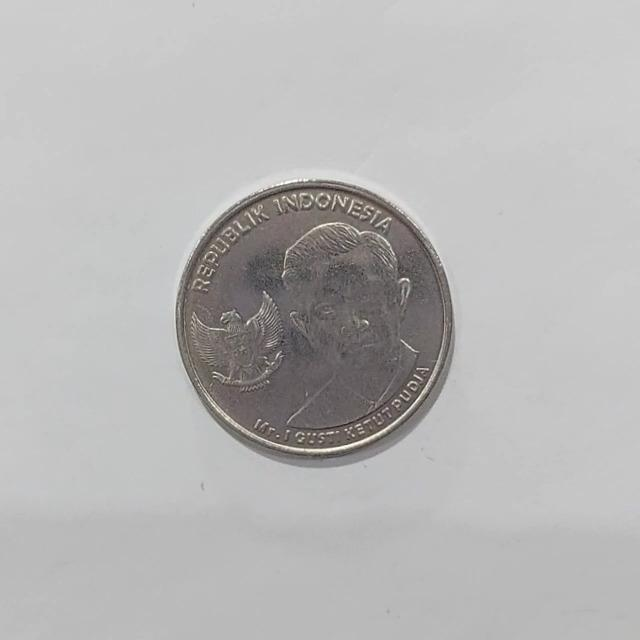Rp100: (174, 175, 455, 465)
